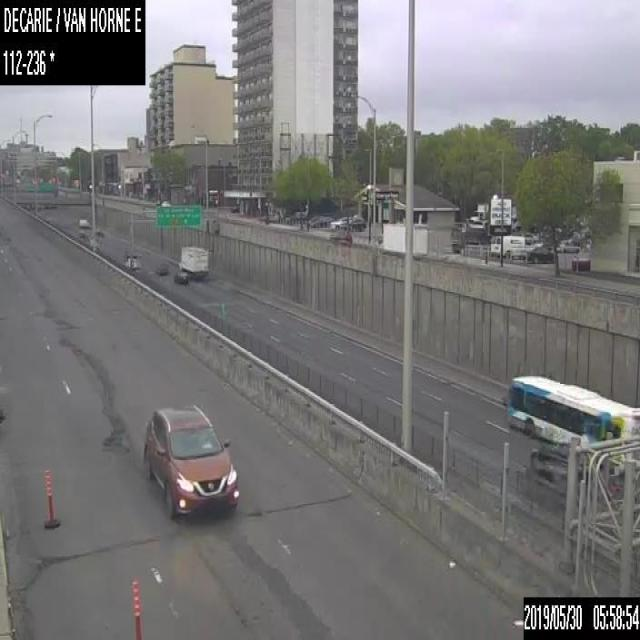bus: (506, 372, 639, 453)
construction: (44, 469, 57, 528), (130, 576, 141, 639)
vehicle: (142, 406, 239, 516), (467, 197, 511, 231), (178, 244, 208, 276), (490, 234, 524, 257), (523, 244, 554, 262), (340, 213, 366, 230), (572, 250, 589, 270), (555, 239, 579, 252), (327, 226, 352, 238), (329, 215, 350, 228), (154, 258, 169, 273), (468, 219, 486, 231), (124, 253, 138, 268), (174, 270, 187, 284), (525, 232, 537, 243)
